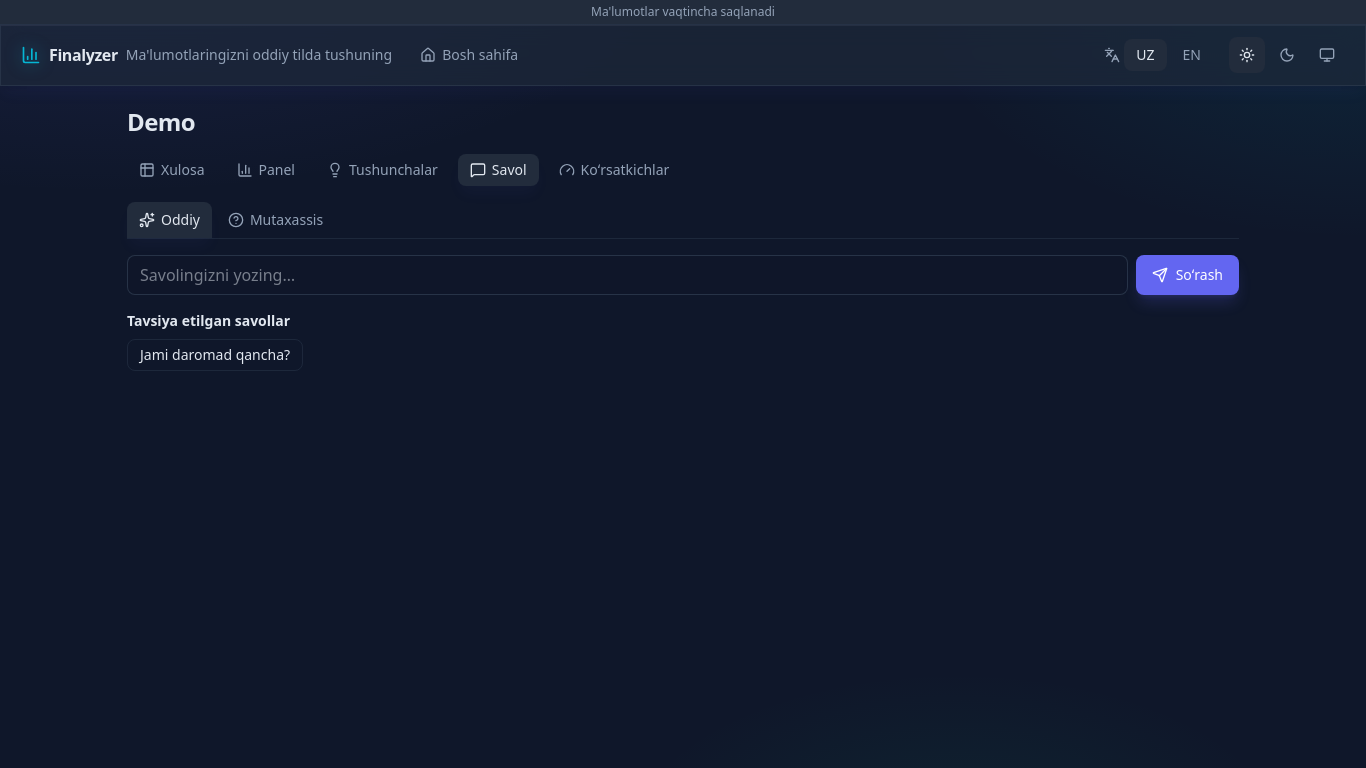
Test: insights and ask pages › asks a suggested question and shows the verified badge
Click the button "Jami daromad qancha?".
click(215, 355)  # box [127,339,303,371]
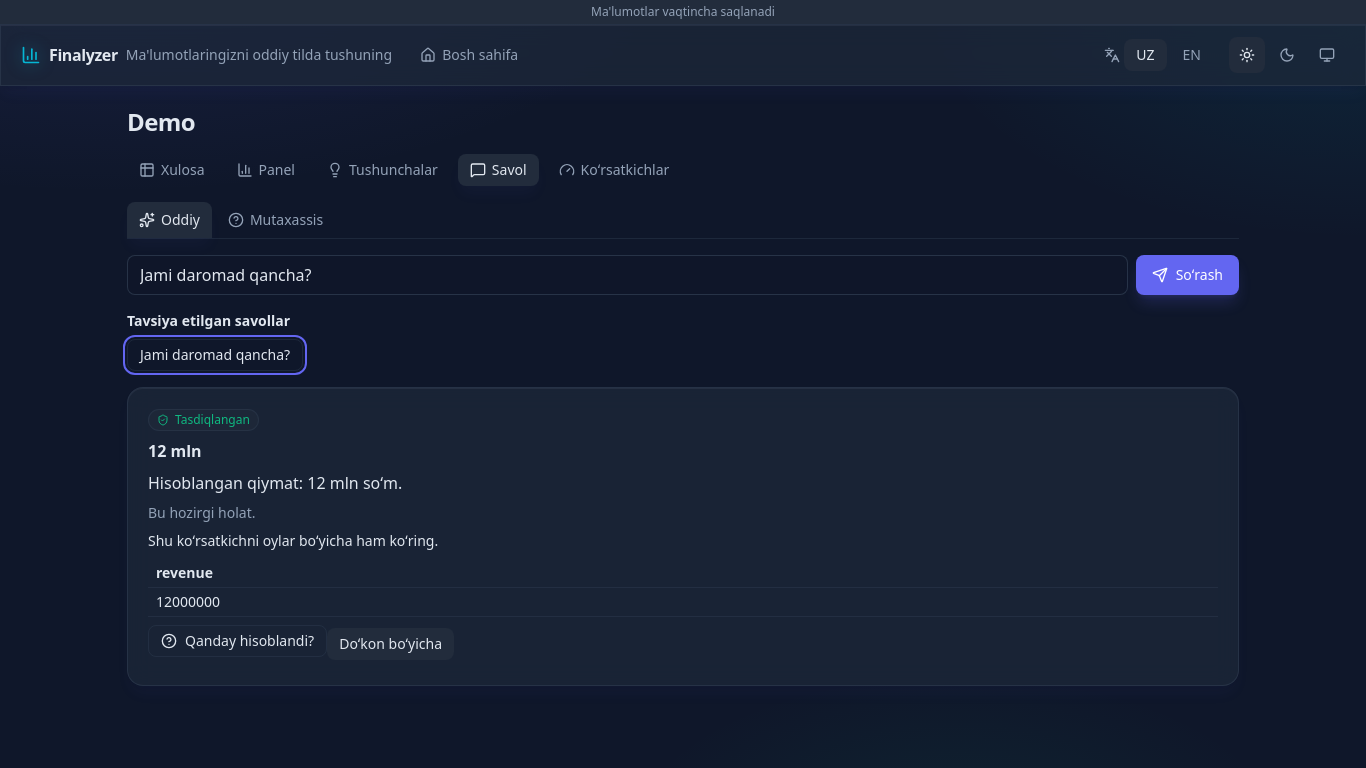
Check: the text "Tasdiqlangan" is shown, box [148,409,259,431]
Check: the text "12 mln" is shown, box [148,440,202,462]
Check: the text "Hisoblangan qiymat: 12 mln soʻm." is shown, box [148,472,402,494]
Click the button "Qanday hisoblandi?".
click(238, 641)  # box [148,625,327,657]
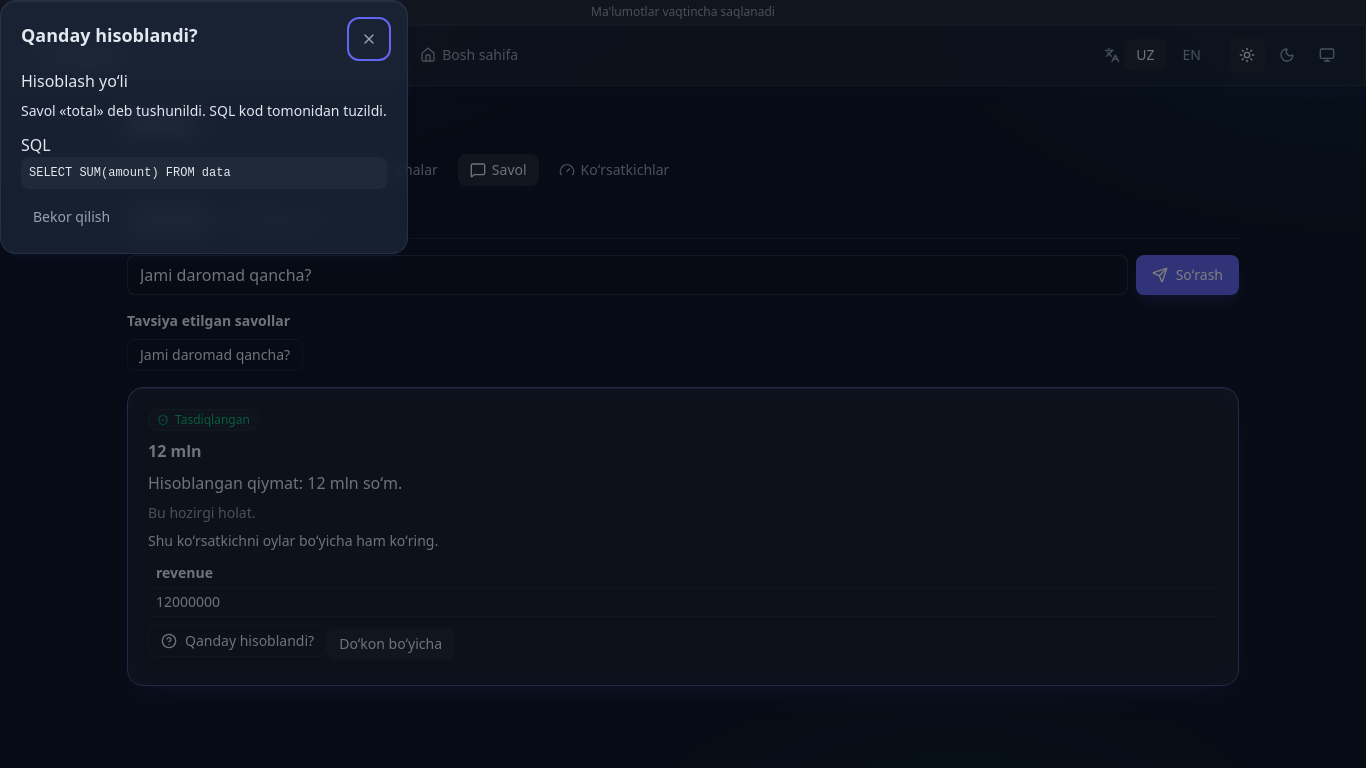
Check: the text "Hisoblash yoʻli" is shown, box [21,70,128,92]
Check: the text "Savol «total» deb tushunildi. SQL kod tomonidan tuzildi." is shown, box [21,101,387,121]
Check: the text "SQL" is shown, box [21,134,51,156]
